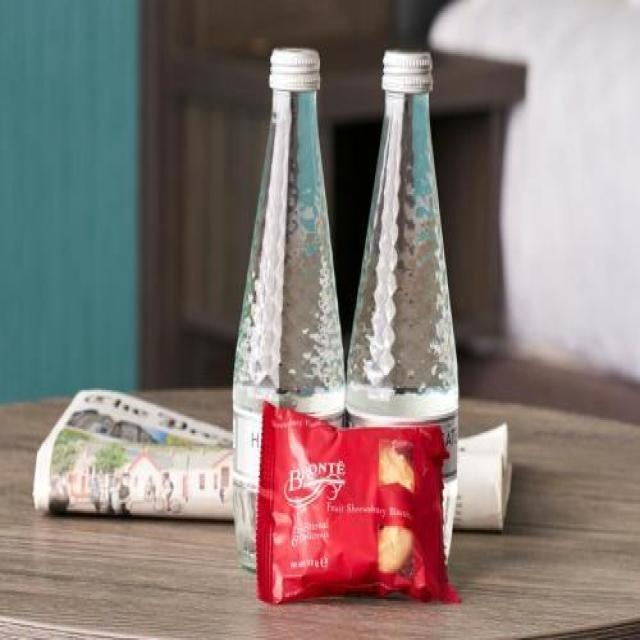bottle: (340, 48, 461, 598), (231, 42, 348, 583)
